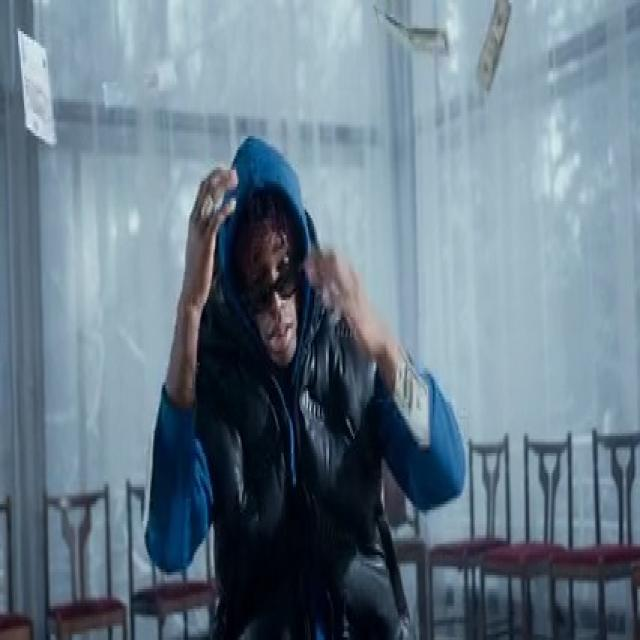Jacket_Wearer: (173, 272, 431, 640)
Person: (158, 113, 460, 640)
